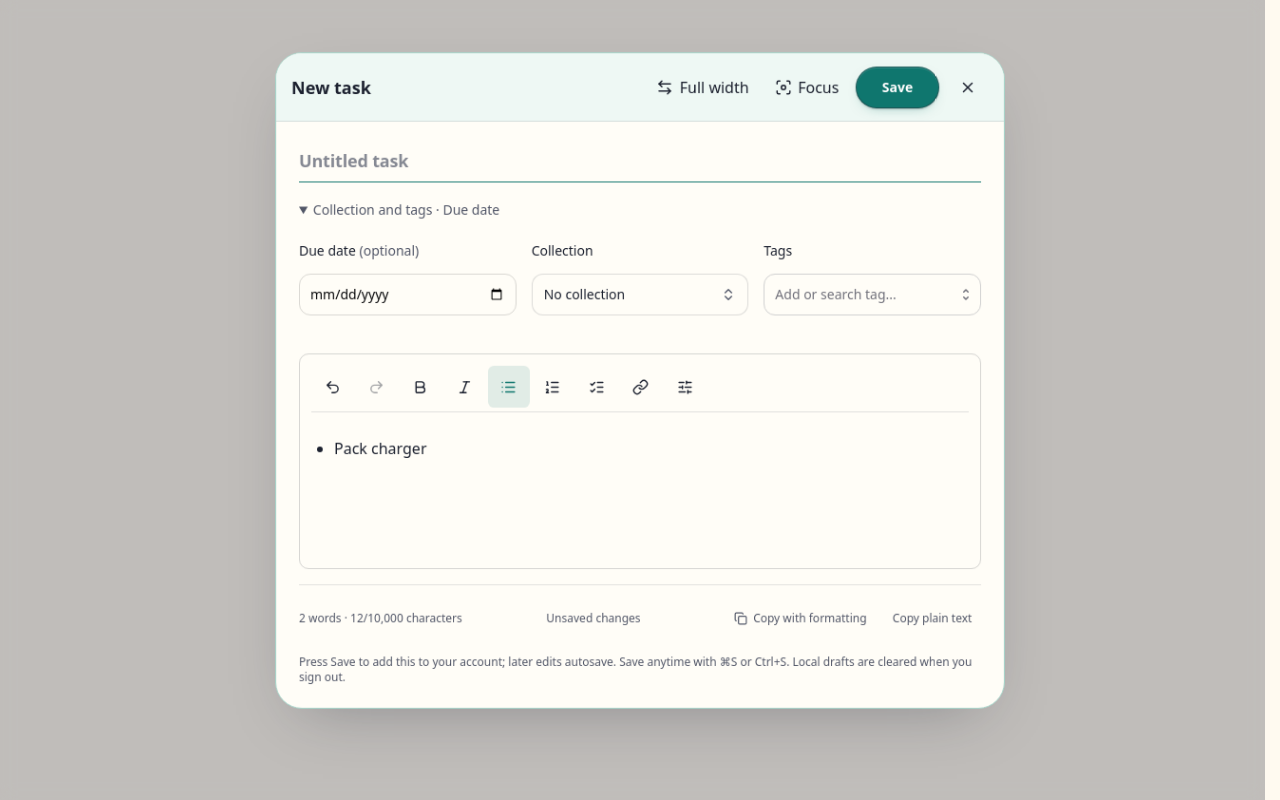
Scenario: TodoEditorDialog › supports checkbox lists in todo details
Click the button named "Checkbox list".
click(597, 387)  # box [576,366,618,408]
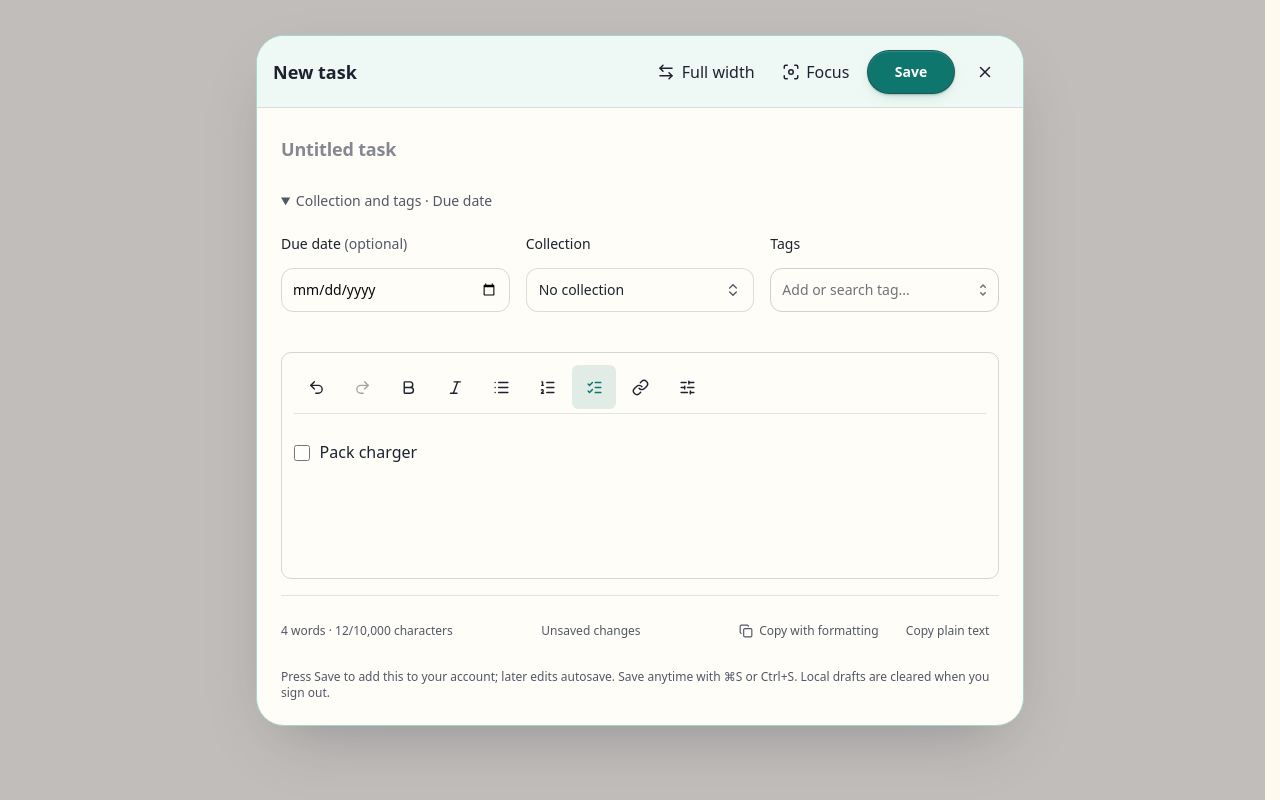
Expected: the checkbox named "Toggle checklist item" is shown, [294,445,310,461]
